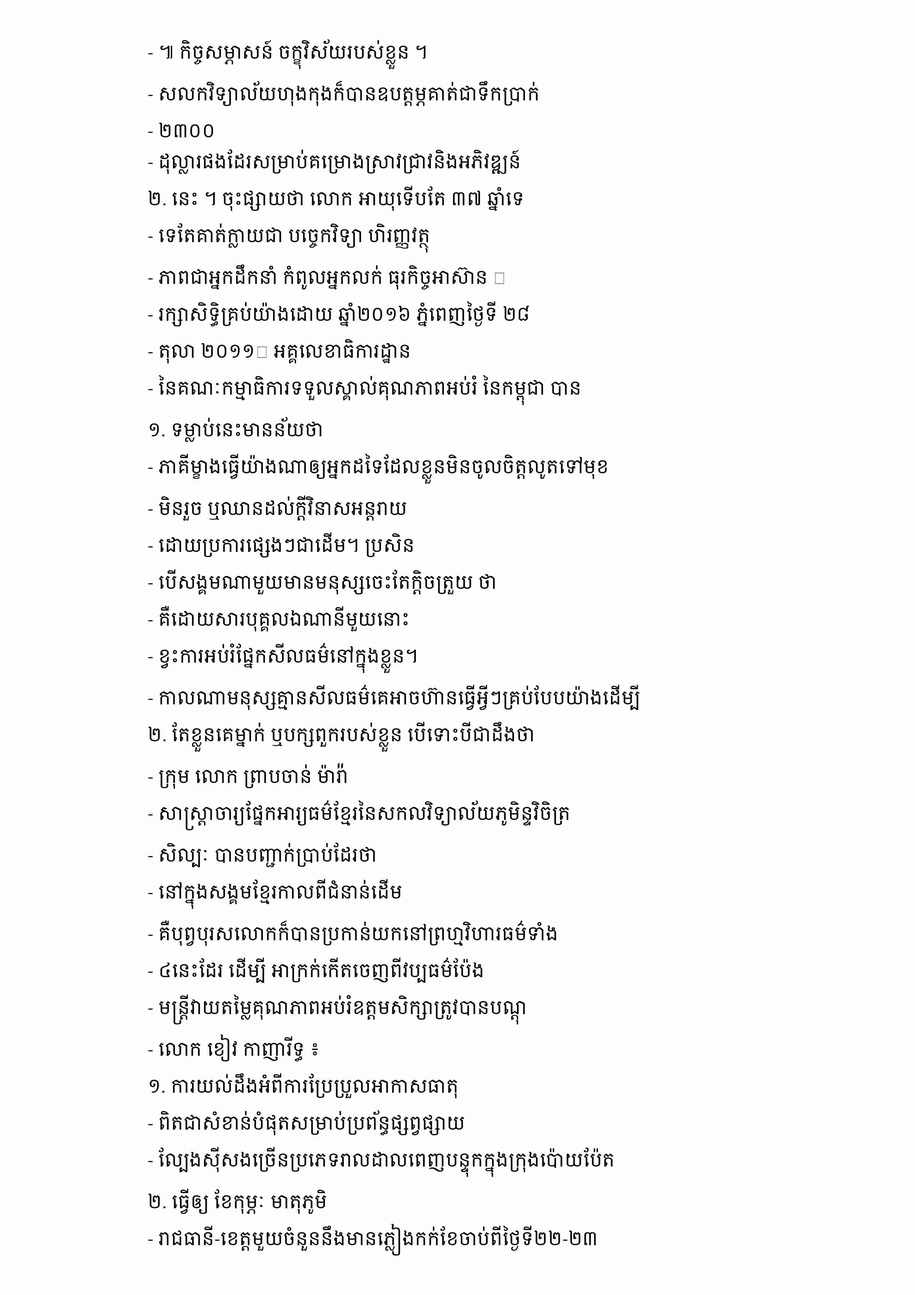text: (148, 1224, 603, 1256), (148, 1147, 619, 1177), (148, 454, 614, 484), (148, 800, 576, 831), (148, 375, 586, 405), (148, 684, 645, 710), (148, 722, 540, 752), (148, 995, 532, 1025), (148, 920, 563, 946), (148, 301, 535, 327), (148, 81, 545, 106), (148, 186, 529, 211), (148, 149, 526, 174), (148, 264, 511, 290), (148, 569, 502, 595), (148, 957, 489, 983), (148, 223, 435, 253), (148, 39, 433, 69), (148, 1110, 470, 1136), (148, 643, 423, 673), (148, 1073, 463, 1099), (148, 879, 407, 909), (148, 532, 419, 558), (148, 606, 415, 632), (148, 495, 412, 521), (148, 339, 416, 364), (148, 842, 382, 868), (148, 763, 353, 789), (148, 1034, 325, 1062), (148, 1189, 332, 1214), (148, 417, 328, 442), (148, 123, 220, 137)
